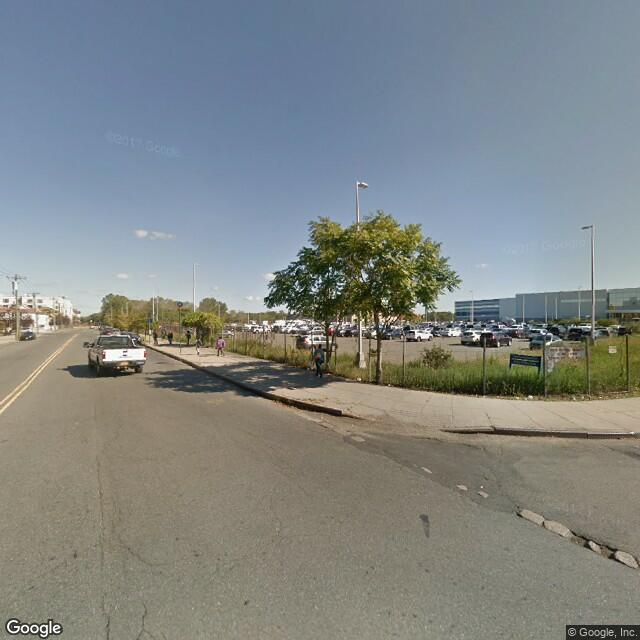litter: (355, 374, 362, 383), (580, 393, 586, 399), (569, 394, 576, 399), (528, 394, 534, 399)
